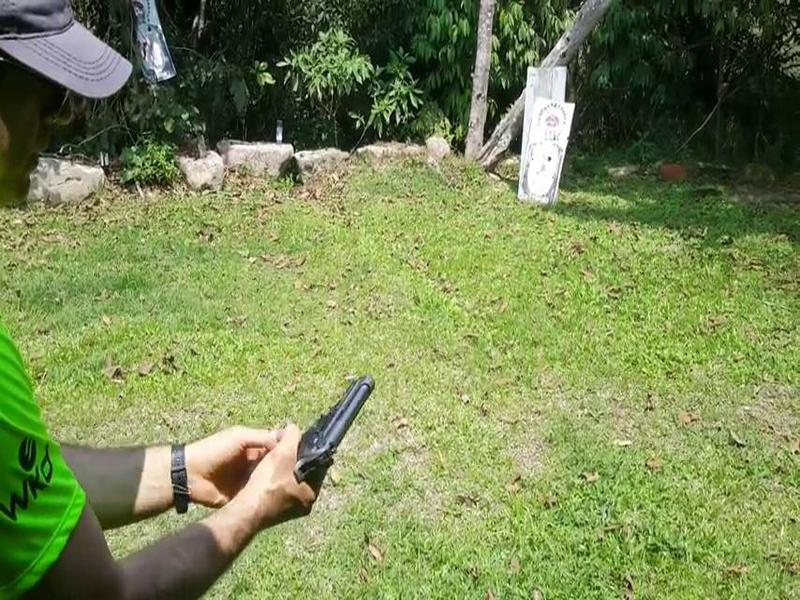Pistola: (303, 351, 380, 481)
